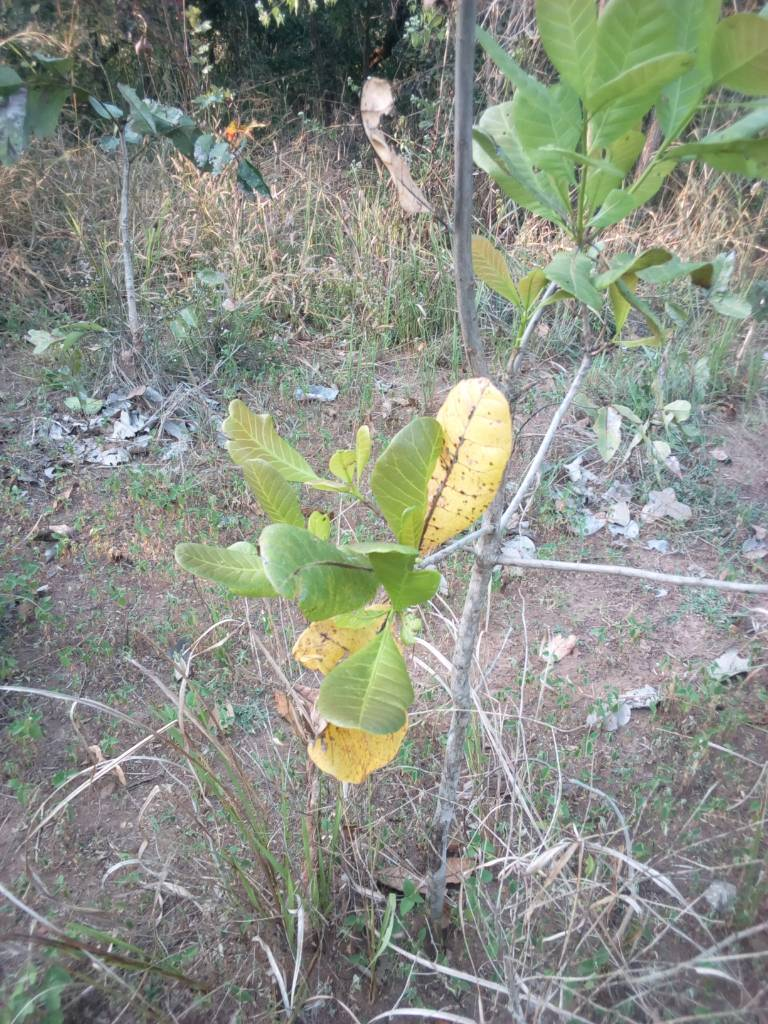Anthracnose: (421, 374, 521, 546)
